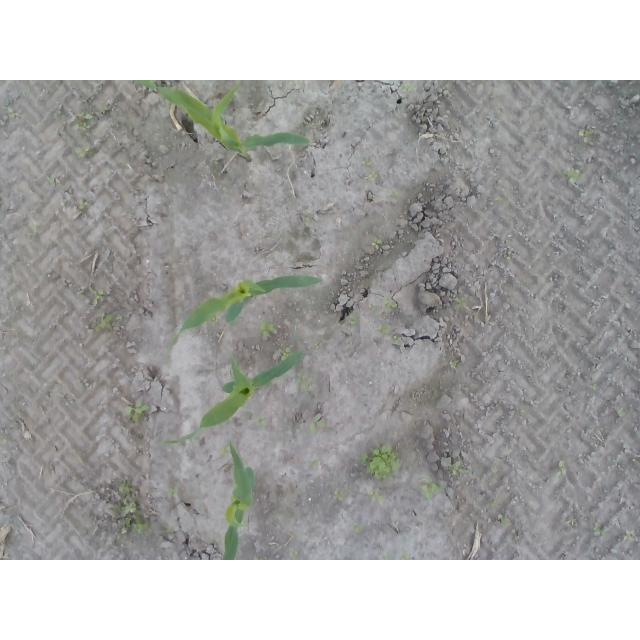Maize: (133, 81, 310, 164), (165, 352, 304, 445), (170, 274, 324, 344), (223, 441, 258, 559)
Weeds: (112, 480, 152, 534), (358, 444, 402, 481), (126, 403, 152, 424), (418, 478, 442, 500), (308, 412, 328, 433), (258, 320, 278, 340), (559, 167, 581, 185), (74, 113, 95, 128), (298, 374, 315, 392), (96, 314, 113, 331), (368, 490, 385, 505), (78, 146, 95, 158), (578, 129, 592, 143), (447, 462, 462, 475), (377, 323, 391, 336), (384, 298, 396, 311), (402, 81, 415, 93), (592, 527, 608, 536), (454, 296, 465, 309), (372, 238, 383, 250), (623, 530, 635, 541), (368, 171, 379, 182), (334, 490, 344, 502), (79, 198, 89, 210), (281, 351, 291, 362), (287, 548, 297, 558), (451, 360, 462, 369), (94, 291, 104, 300), (617, 408, 626, 417), (399, 552, 409, 560), (361, 160, 372, 167), (168, 488, 176, 495)
